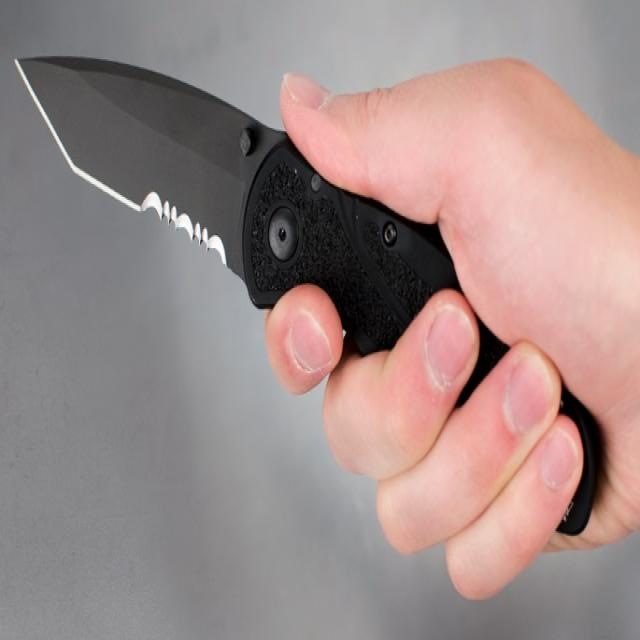knife: (10, 46, 399, 335)
